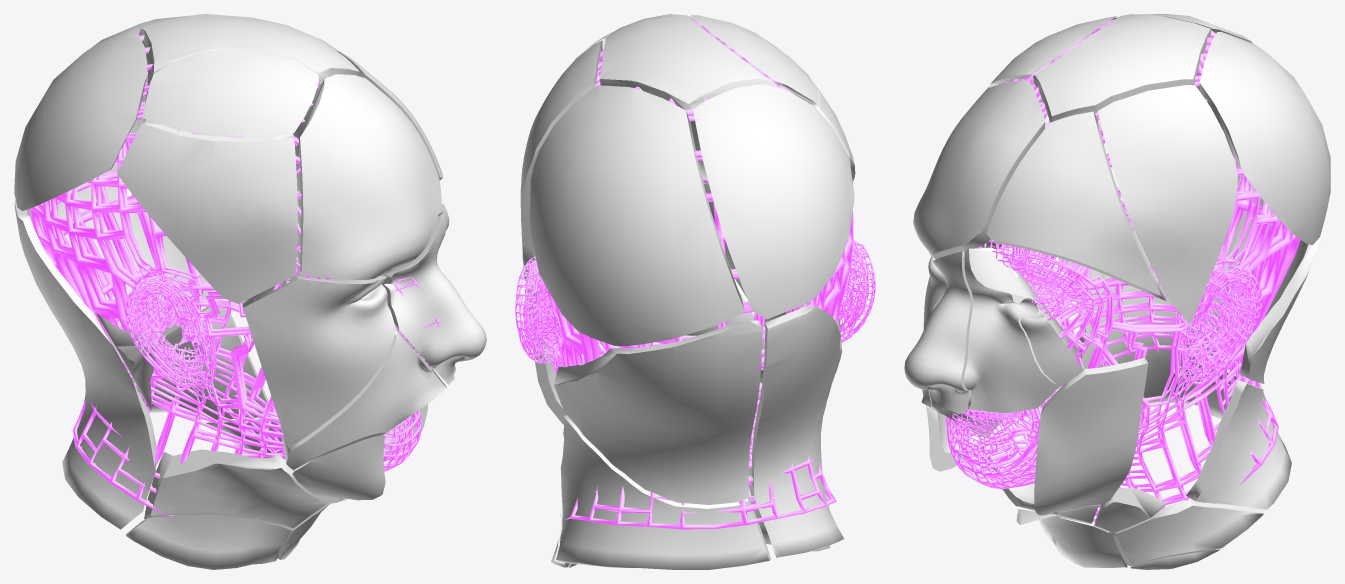
3 renders of one model, left to right at view 1: azimuth 30°, elevation 25°; view 2: azimuth 150°, elevation 25°; view 3: azimuth 270°, elevation 25°, orthographic. The views are drawn at different scales.
Visible parts, largest first — view 1: head.003_cell.039_0, head.003_1; view 2: head.003_cell.039_0, head.003_1; view 3: head.003_cell.039_0, head.003_1.
Part boxes in pixels (<box>): head.003_cell.039_0: <box>14,14,486,569</box>; head.003_1: <box>29,30,442,516</box>; head.003_cell.039_0: <box>520,14,855,569</box>; head.003_1: <box>515,21,875,529</box>; head.003_cell.039_0: <box>904,14,1330,569</box>; head.003_1: <box>946,19,1300,521</box>.
Size of the model in its own units: 0.7958 by 1.16 by 0.8763.
